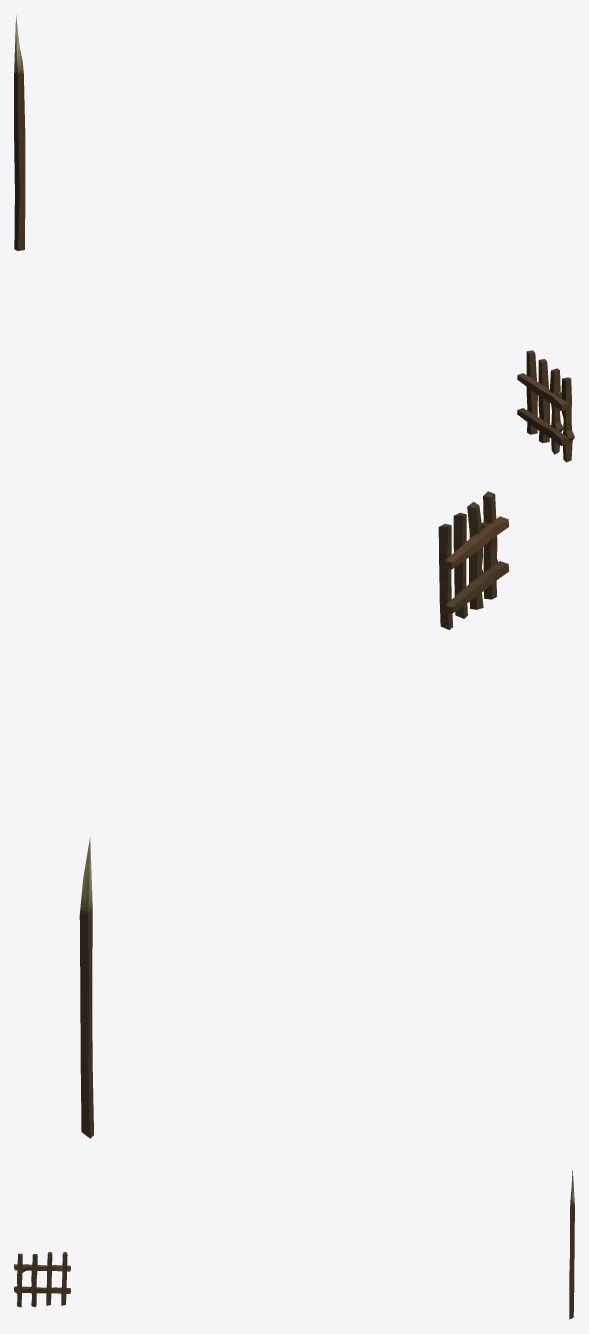
Rendered from fence.glb.
3 renders of one model, top to bottom at view 1: azimuth 30°, elevation 25°; view 2: azimuth 150°, elevation 25°; view 3: azimuth 270°, elevation 25°, orthographic. The views are drawn at different scales.
Parts seen in each view (by area): view 1: Stick.024, Stick.018, Stick.023, Stick.020, Stick.021, Stick.022, Stick.019; view 2: Stick.024, Stick.023, Stick.020, Stick.021, Stick.018, Stick.022, Stick.019; view 3: Stick.024, Stick.018, Stick.019, Stick.023, Stick.022, Stick.020, Stick.021.
Part boxes in pixels (left/top/right/bottom): Stick.024: left=14, top=15, right=25, bottom=250; Stick.018: left=556, top=377, right=574, bottom=462; Stick.023: left=526, top=350, right=537, bottom=434; Stick.020: left=517, top=408, right=568, bottom=445; Stick.021: left=517, top=373, right=568, bottom=411; Stick.022: left=538, top=359, right=549, bottom=443; Stick.019: left=549, top=368, right=563, bottom=454; Stick.024: left=79, top=837, right=93, bottom=1138; Stick.023: left=438, top=523, right=453, bottom=629; Stick.020: left=444, top=561, right=509, bottom=614; Stick.021: left=444, top=516, right=509, bottom=569; Stick.018: left=481, top=491, right=497, bottom=599; Stick.022: left=453, top=512, right=467, bottom=618; Stick.019: left=467, top=501, right=483, bottom=609; Stick.024: left=569, top=1170, right=574, bottom=1319; Stick.018: left=14, top=1253, right=29, bottom=1307; Stick.019: left=29, top=1254, right=37, bottom=1307; Stick.023: left=61, top=1252, right=67, bottom=1305; Stick.022: left=46, top=1252, right=52, bottom=1305; Stick.020: left=14, top=1286, right=70, bottom=1293; Stick.021: left=14, top=1264, right=70, bottom=1271.
Size of the model in its own units: 1.12 by 2.02 by 6.81.
